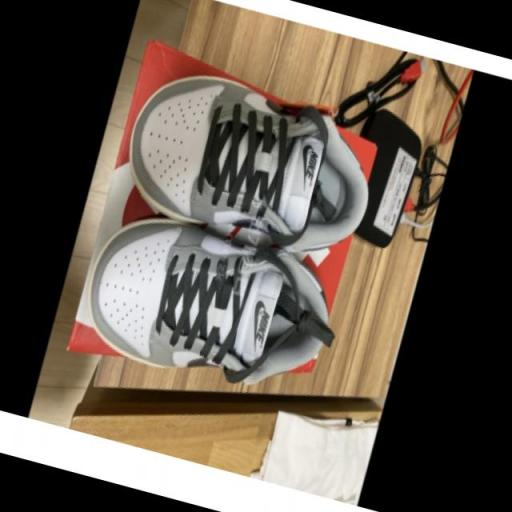Nike: (244, 296, 264, 344), (300, 146, 321, 188)
